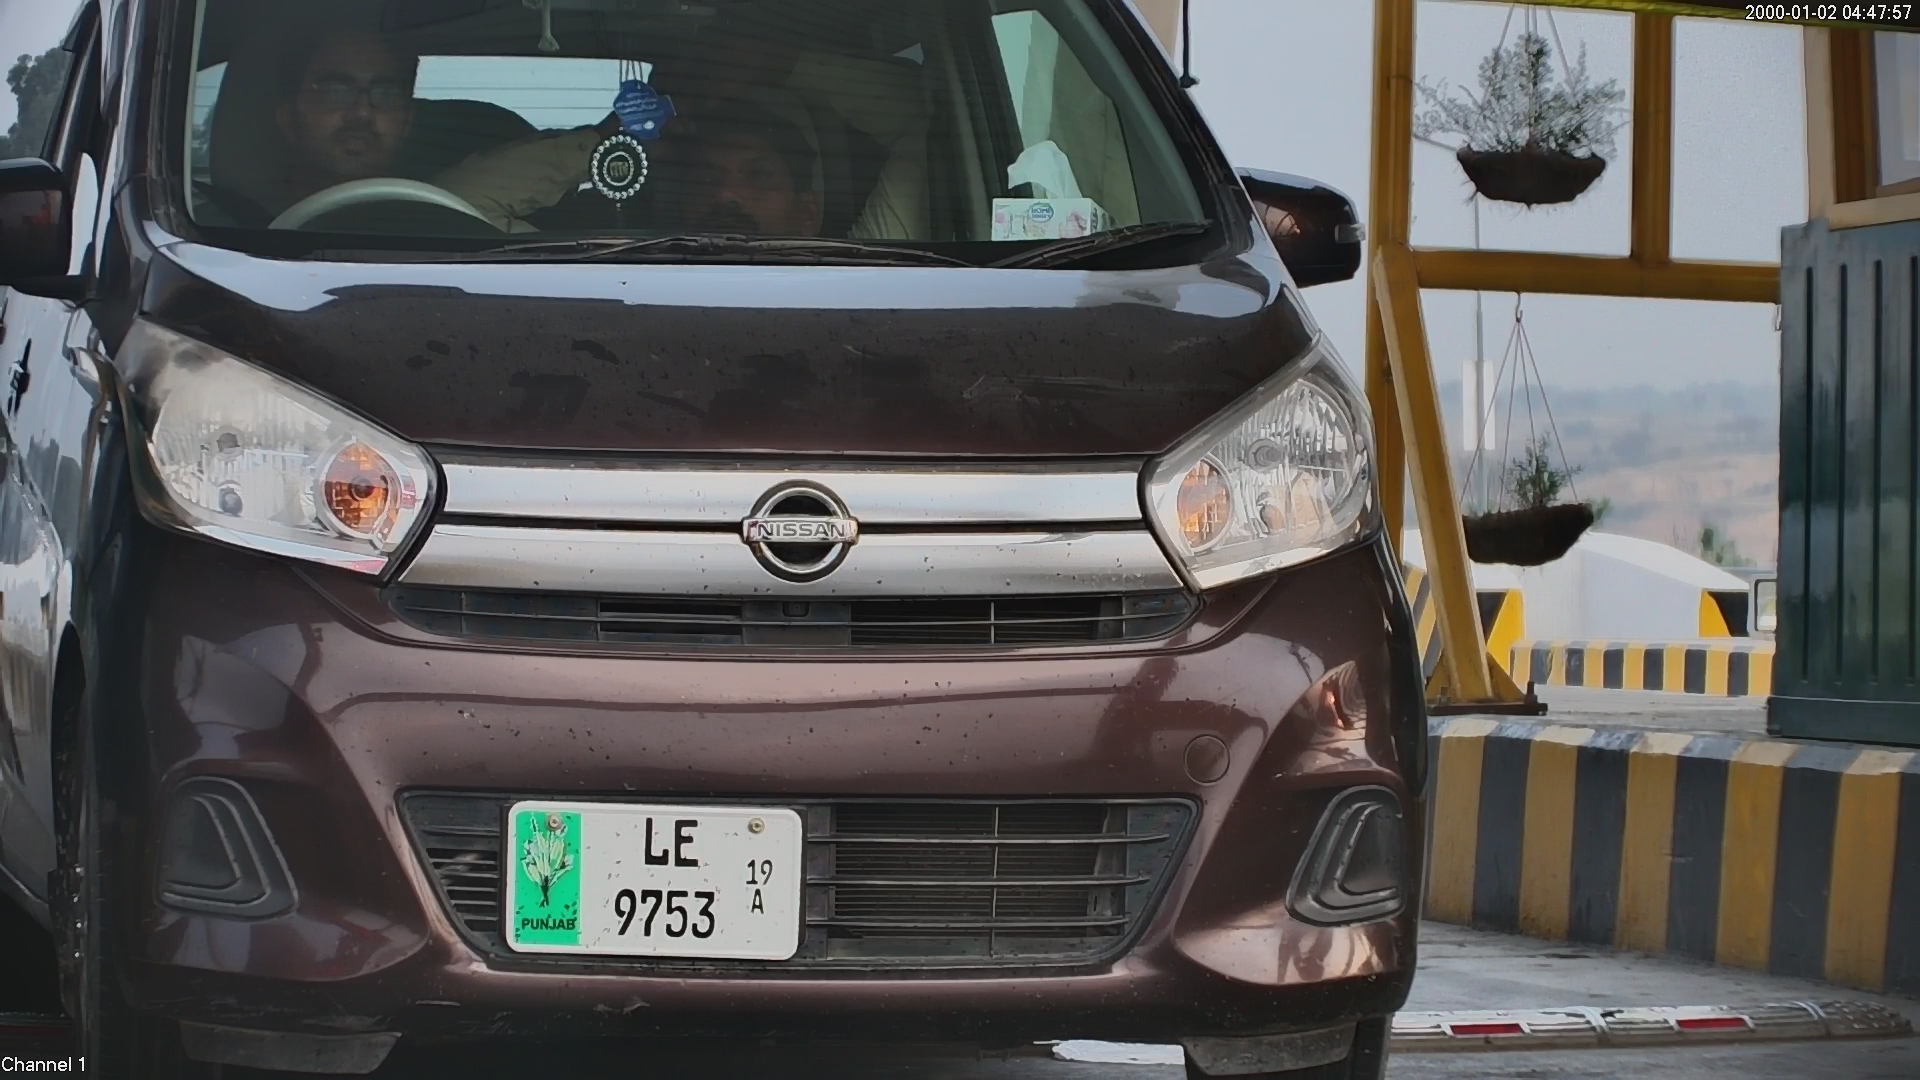Number_Plate: (484, 781, 817, 976)
